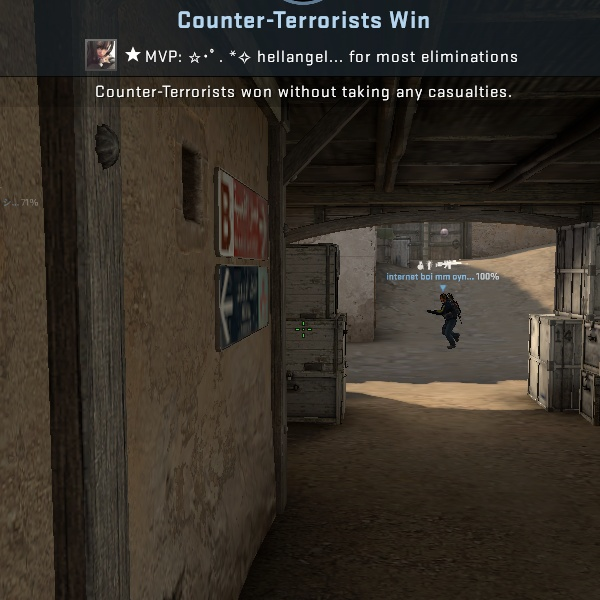ct_body: (431, 286, 463, 347)
ct_head: (437, 290, 452, 306)
